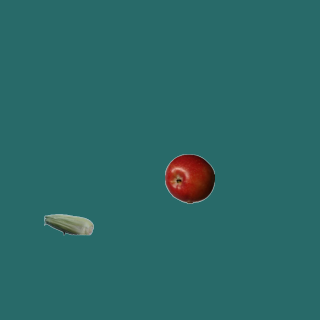Apple Braeburn: (164, 153, 214, 203)
Corn Husk: (43, 199, 93, 249)
